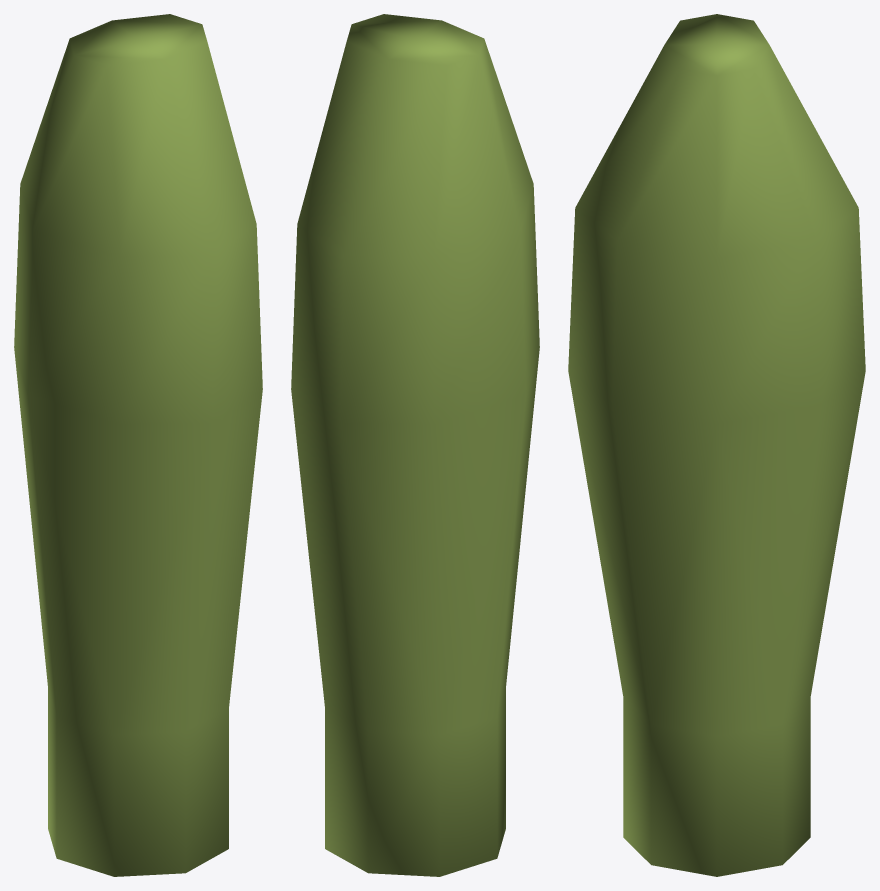
File: Flower_S.fbx
The picture shows the model from 3 angles, left to right: view 1: azimuth 30°, elevation 25°; view 2: azimuth 150°, elevation 25°; view 3: azimuth 270°, elevation 25°; orthographic projection.
Visible parts, largest first — view 1: Flower_S; view 2: Flower_S; view 3: Flower_S.
Boxes of the visible parts, <box> form: Flower_S: <box>14,14,262,876</box>; Flower_S: <box>291,14,539,876</box>; Flower_S: <box>568,14,865,876</box>.
Size of the model in its own units: 1.48 by 5.11 by 1.74.
